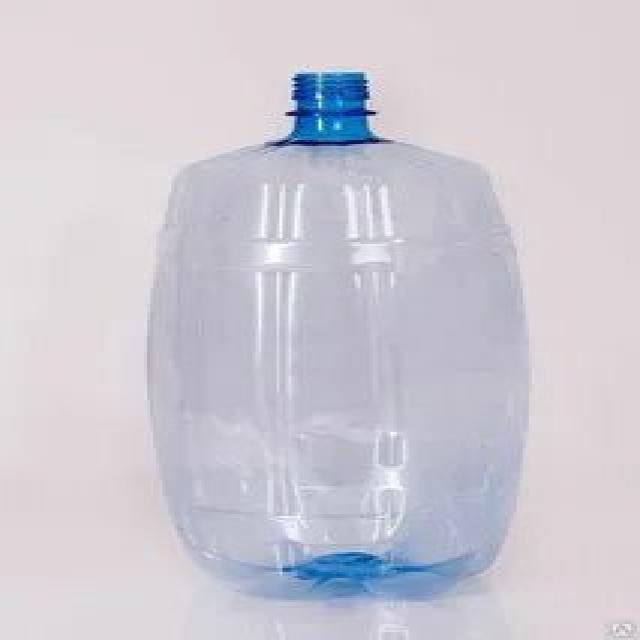blue: (153, 72, 521, 603)
